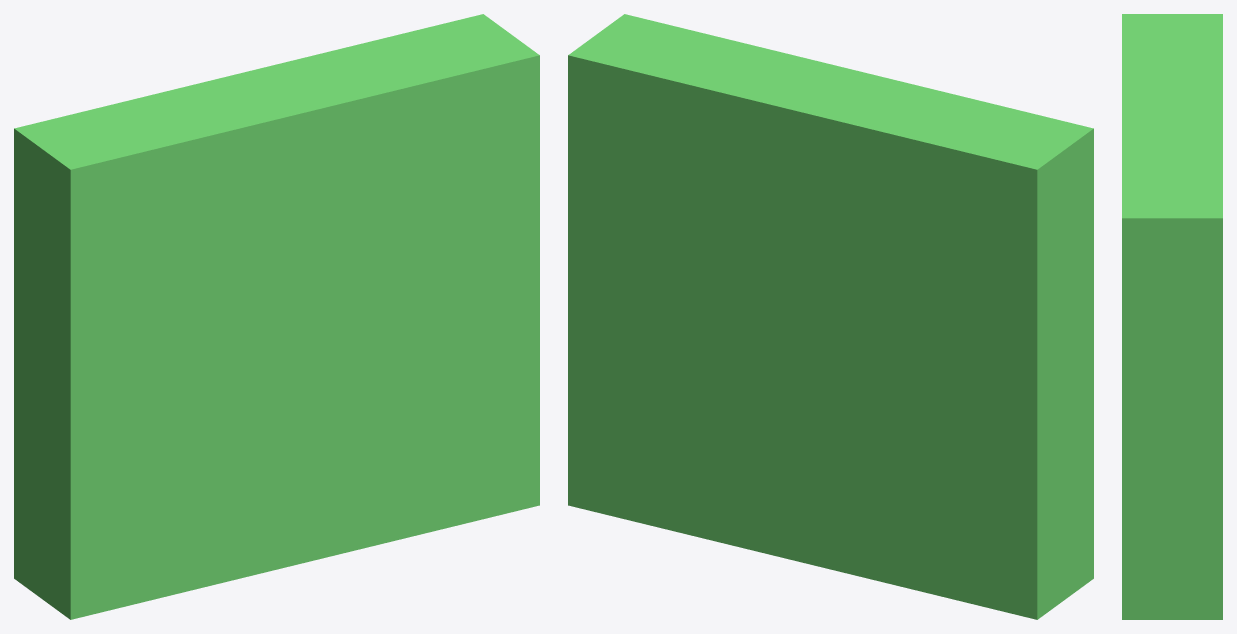
Rendered from PTC_Source.gltf.
The picture shows the model from 3 angles, left to right: view 1: azimuth 30°, elevation 25°; view 2: azimuth 150°, elevation 25°; view 3: azimuth 270°, elevation 25°; orthographic projection. The views are drawn at different scales.
Size of the model in its own units: 21.6 by 19.8 by 4.5.
